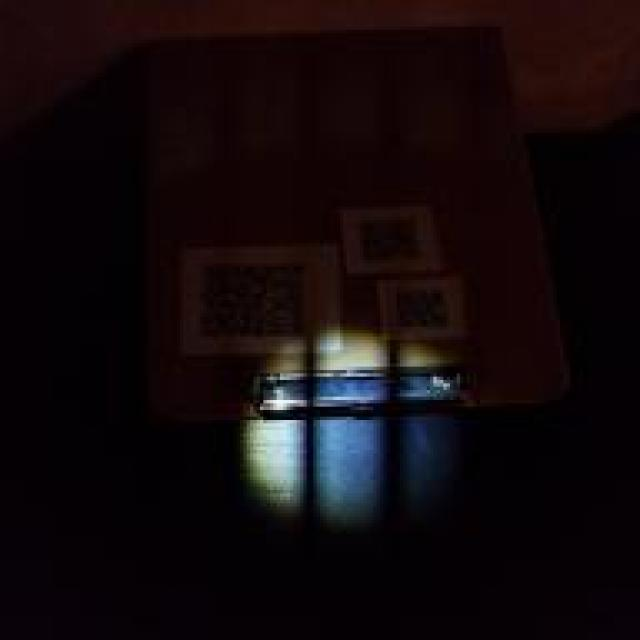QR_CODE: (193, 253, 312, 350), (350, 213, 430, 270), (390, 282, 455, 336)
